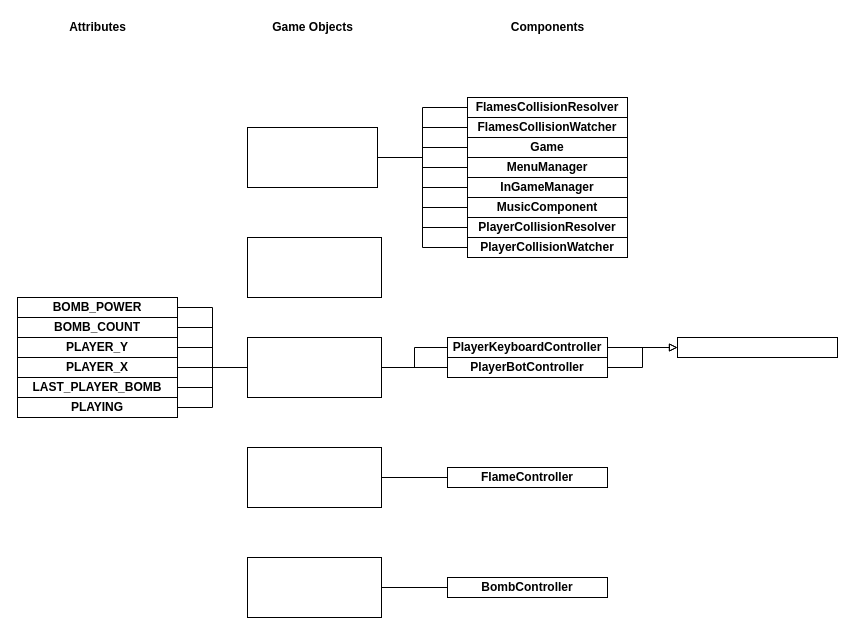
This 855x635 diagram has some shape labels left out. The shapes that lost their labels are listed below. From the top down, each one's centre as x and y in pixels, then its label:
At pixel 312 157: "Stage".
At pixel 314 267: "...un/breakable walls, ...power ups, ...".
At pixel 314 367: "Player".
At pixel 757 347: "PlayerController".
At pixel 314 477: "Flames".
At pixel 314 587: "Bomb".
